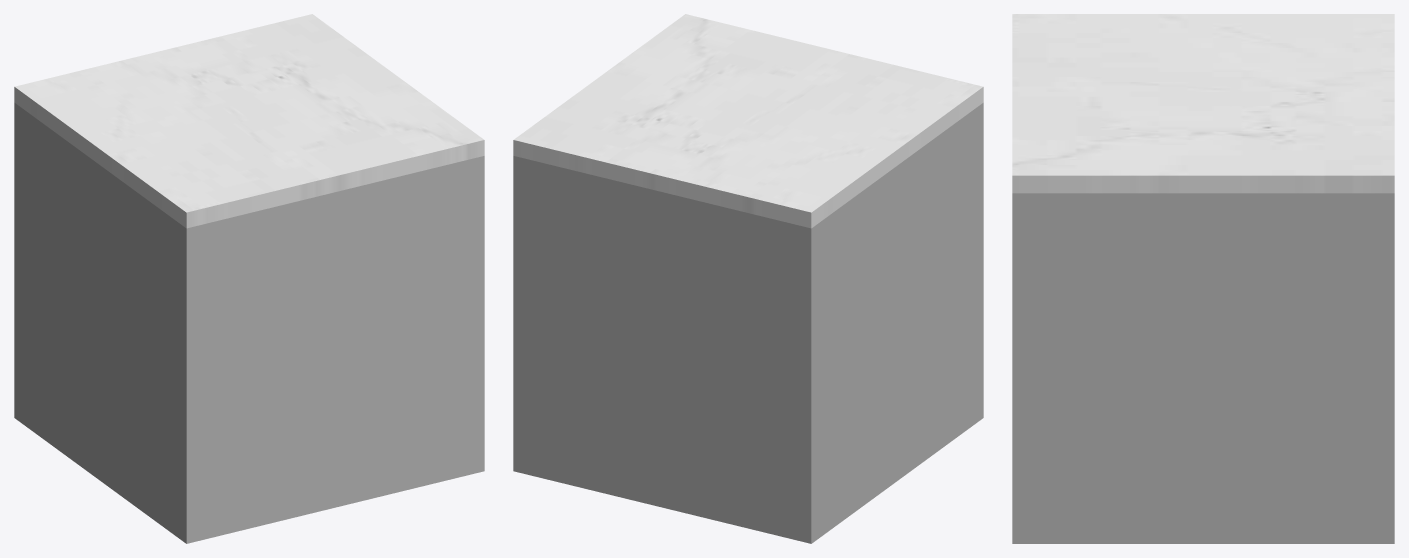
File: CountertopCornerpiece.fbx
3 views of the same model, side by side, from view 1: azimuth 30°, elevation 25°; view 2: azimuth 150°, elevation 25°; view 3: azimuth 270°, elevation 25° (orthographic). The views are drawn at different scales.
Parts seen in each view (by area): view 1: Cube; view 2: Cube; view 3: Cube.
Part boxes in pixels (left/top/right/bottom): Cube: left=14, top=14, right=484, bottom=543; Cube: left=513, top=14, right=983, bottom=543; Cube: left=1012, top=14, right=1394, bottom=543.
Bounding box in the file's own units: 95.18 × 101 × 95.18.
